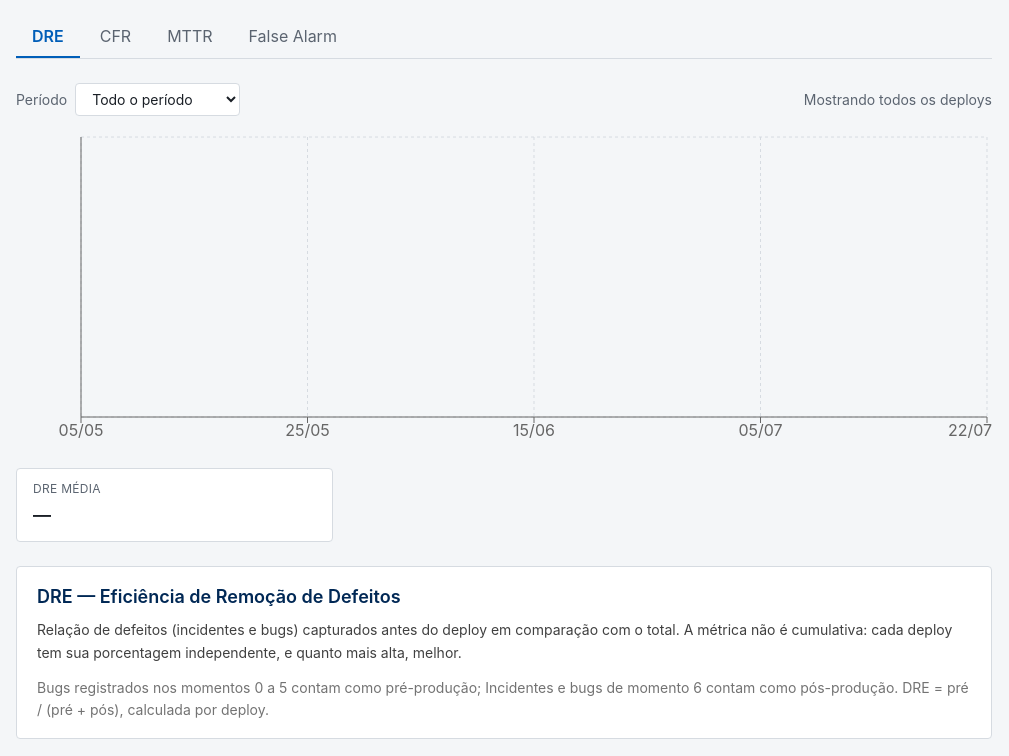
Test: Dashboard metric switching › switching to CFR changes the chart label and the description text
This screenshot has width=1009, height=756.
Click the tab "CFR" at x=115, y=37, box top-left (84, 16), bottom-right (147, 58)
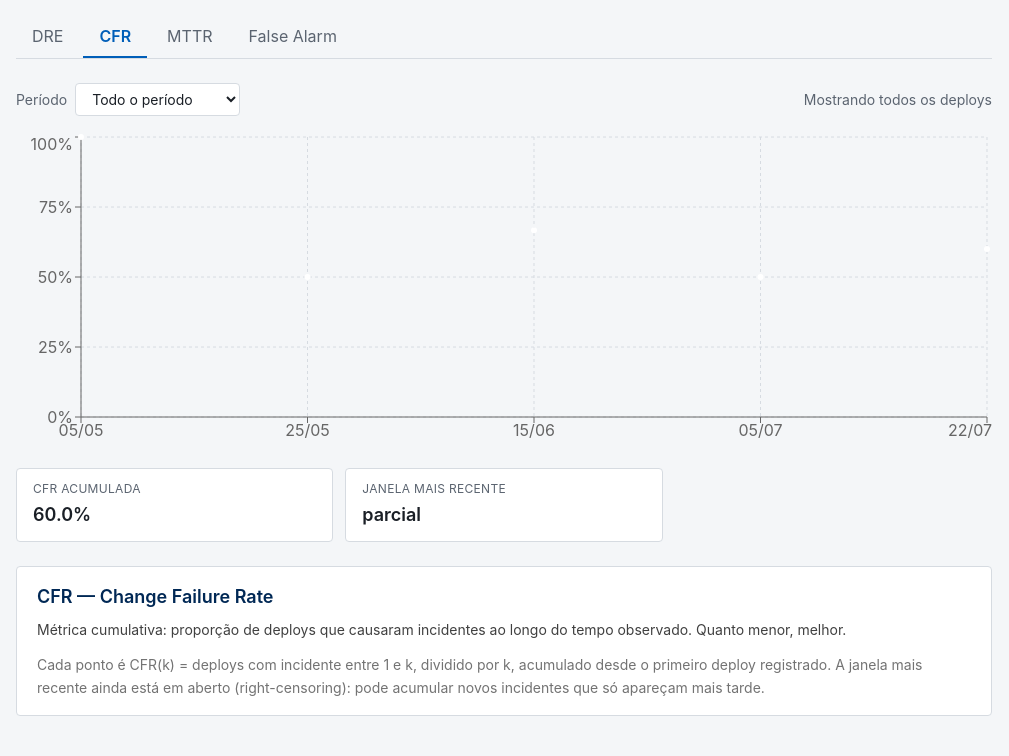
Now the picture named "CFR" is shown, box top-left (16, 132), bottom-right (992, 452)
Now the element named "Descrição da métrica" shows "CFR", box top-left (37, 586), bottom-right (274, 607)
